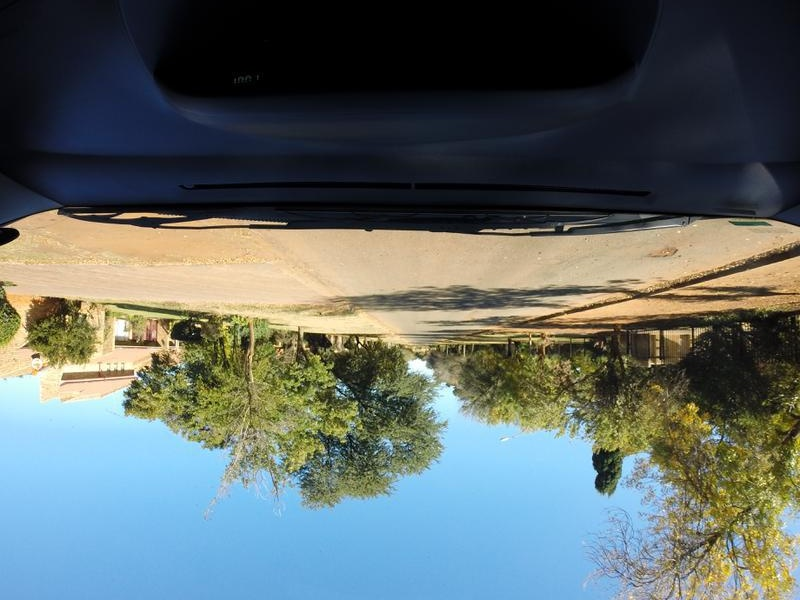pothole: (650, 241, 677, 263)
